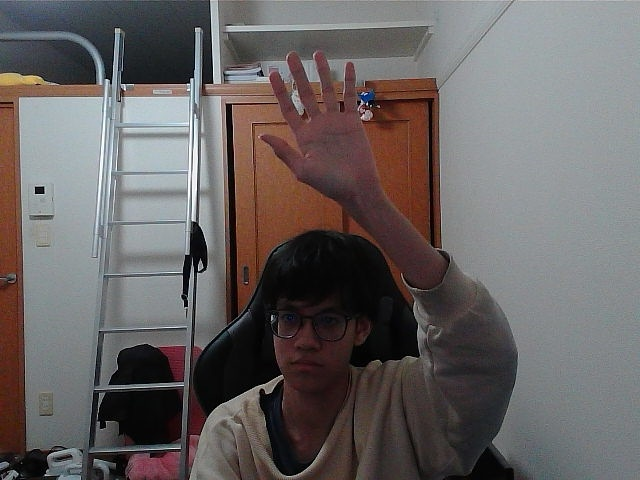open_palm: (270, 57, 352, 182)
